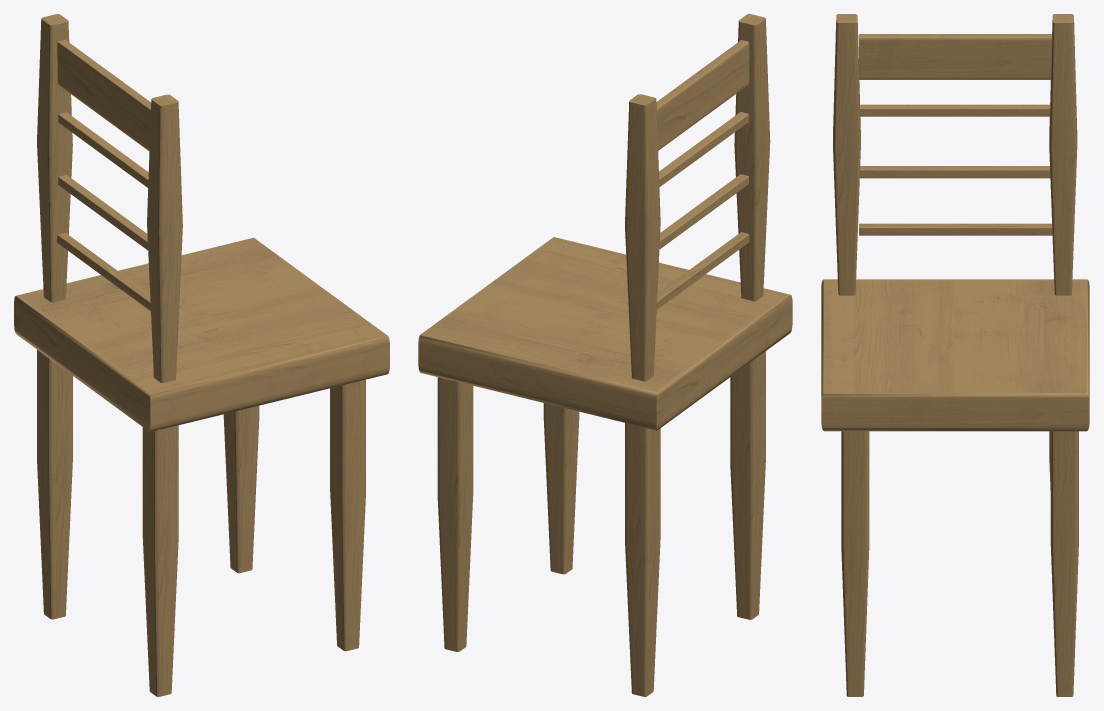
File: FBXchair.fbx
The picture shows the model from 3 angles, left to right: view 1: azimuth 30°, elevation 25°; view 2: azimuth 150°, elevation 25°; view 3: azimuth 270°, elevation 25°; orthographic projection.
Visible parts, largest first — view 1: pasted__pasted__pasted__pasted__pasted__pasted__pCube2; view 2: pasted__pasted__pasted__pasted__pasted__pasted__pCube2; view 3: pasted__pasted__pasted__pasted__pasted__pasted__pCube2.
Boxes of the visible parts, x1,y1,x2,y2 form: pasted__pasted__pasted__pasted__pasted__pasted__pCube2: (14, 14, 389, 696); pasted__pasted__pasted__pasted__pasted__pasted__pCube2: (418, 14, 792, 696); pasted__pasted__pasted__pasted__pasted__pasted__pCube2: (821, 14, 1089, 696).
Size of the model in its own units: 1.68 by 3.98 by 1.65.
1 material, 1 textured.
